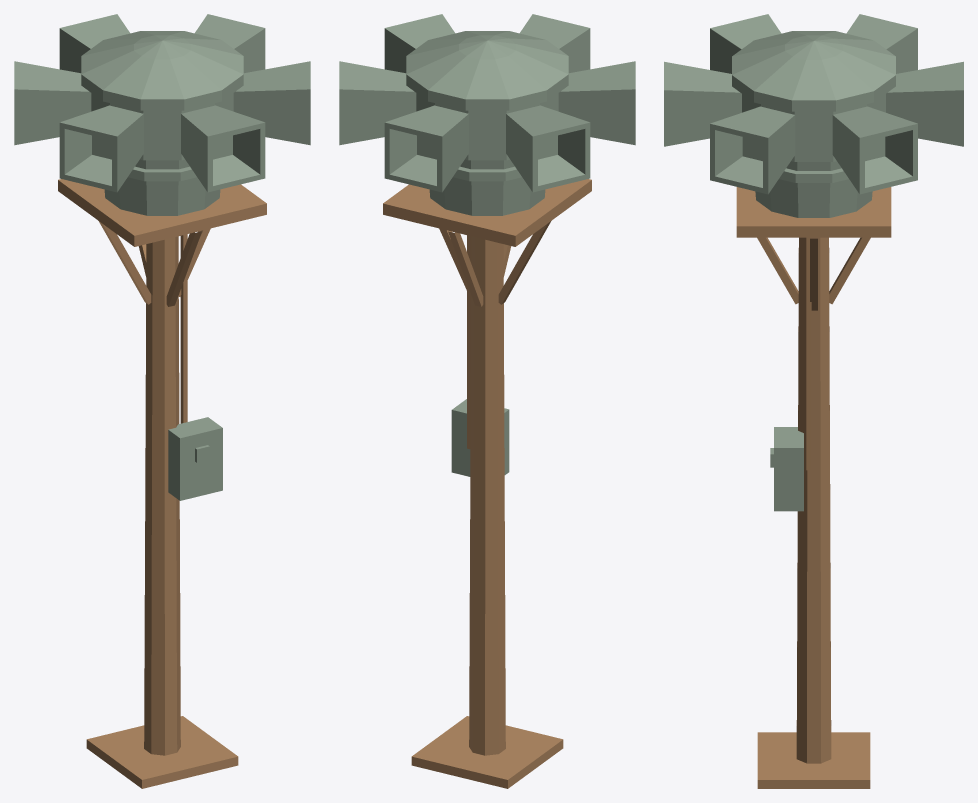
The model's file is siren.glb.
The picture shows the model from 3 angles, left to right: view 1: azimuth 30°, elevation 25°; view 2: azimuth 150°, elevation 25°; view 3: azimuth 270°, elevation 25°; orthographic projection.
Visible parts, largest first — view 1: siren_head, pole; view 2: siren_head, pole; view 3: siren_head, pole.
Boxes of the visible parts, x1,y1,x2,y2 form: siren_head: [14, 14, 310, 500]; pole: [58, 179, 266, 788]; siren_head: [339, 14, 635, 476]; pole: [383, 179, 591, 788]; siren_head: [664, 14, 963, 511]; pole: [736, 187, 891, 788].
Size of the model in its own units: 1.17 by 3.2 by 1.2.
